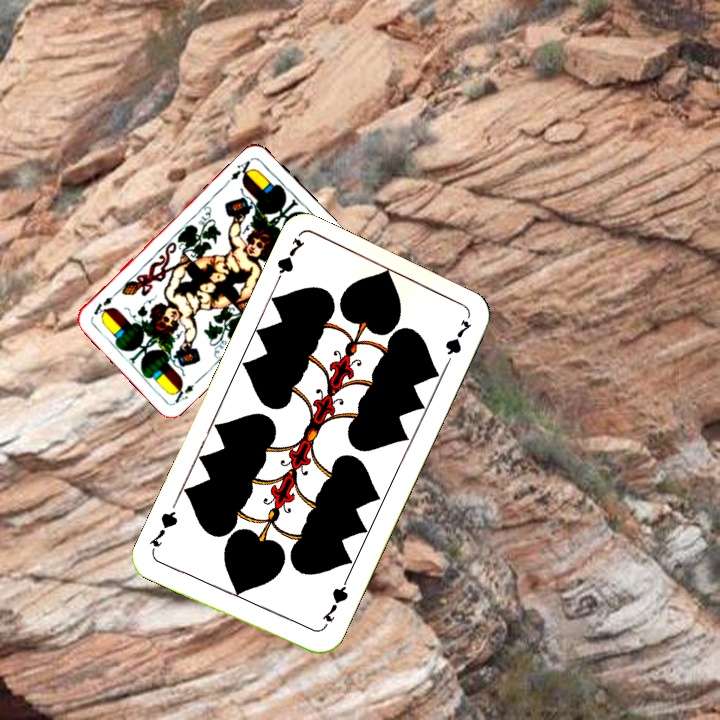EA: (222, 154, 257, 186), (168, 374, 203, 406)
G7: (269, 234, 308, 290), (317, 577, 351, 632)
